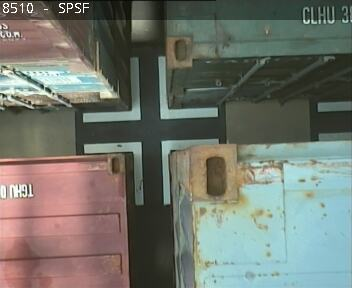groundmarker_1: (84, 54, 218, 122), (82, 137, 215, 205)
